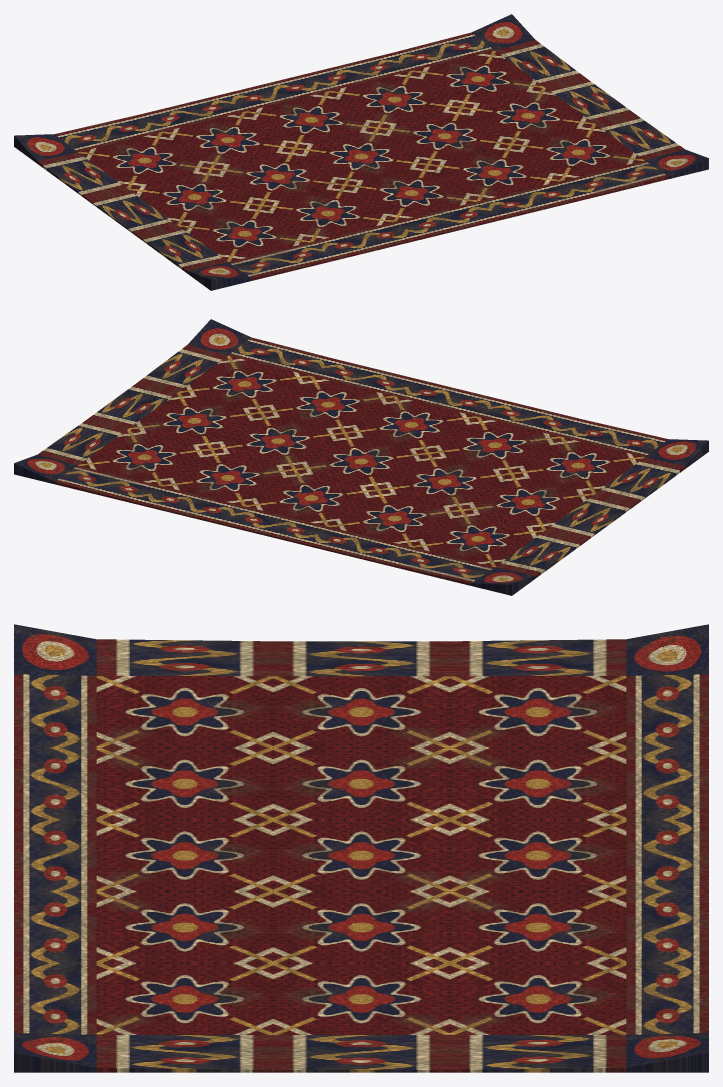
Rendered from Rug_Oriental.fbx.
The picture shows the model from 3 angles, top to bottom: view 1: azimuth 30°, elevation 25°; view 2: azimuth 150°, elevation 25°; view 3: azimuth 270°, elevation 25°; orthographic projection. The views are drawn at different scales.
Visible parts, largest first — view 1: Rug_Oriental; view 2: Rug_Oriental; view 3: Rug_Oriental.
Boxes of the visible parts, x1,y1,x2,y2 form: Rug_Oriental: (14,14,708,290); Rug_Oriental: (14,319,708,595); Rug_Oriental: (14,624,708,1072).
Size of the model in its own units: 2.7 by 0.058 by 1.85.
